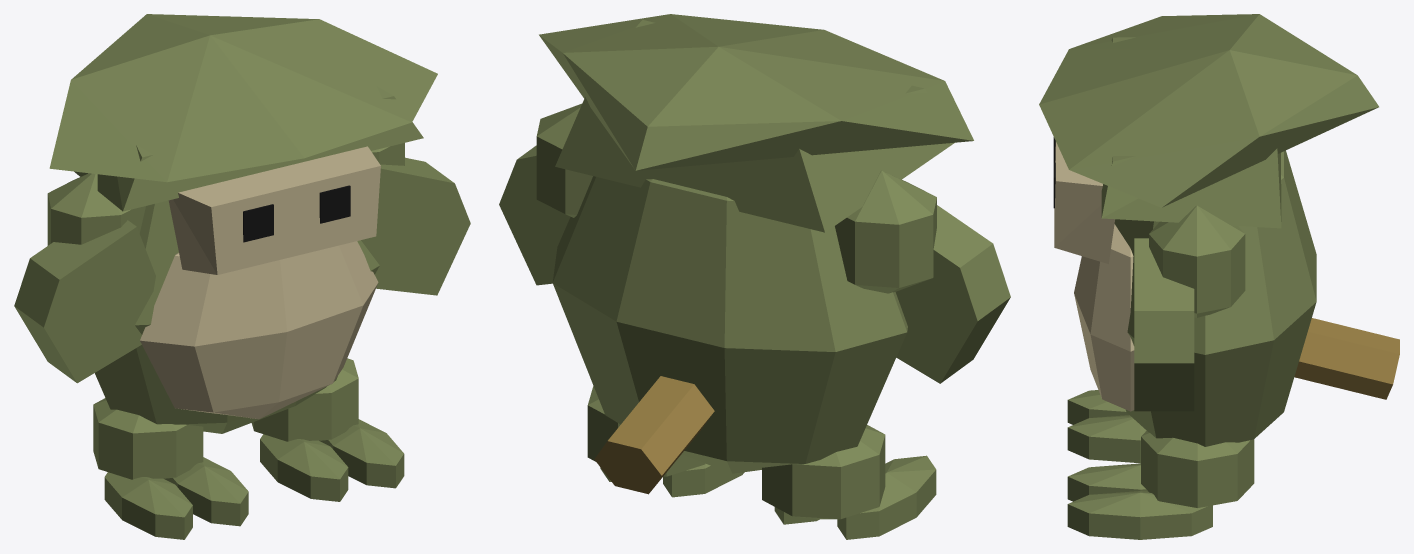
The model's file is leafnock.glb.
3 views of the same model, side by side, from view 1: azimuth 30°, elevation 25°; view 2: azimuth 150°, elevation 25°; view 3: azimuth 270°, elevation 25° (orthographic). The views are drawn at different scales.
Visible parts, largest first — view 1: Leafnock; view 2: Leafnock; view 3: Leafnock.
Boxes of the visible parts, left/top/right/bottom form: Leafnock: left=14, top=14, right=470, bottom=539; Leafnock: left=499, top=14, right=1010, bottom=539; Leafnock: left=1039, top=14, right=1399, bottom=539.
Bounding box in the file's own units: 0.58 × 0.56 × 0.42.
